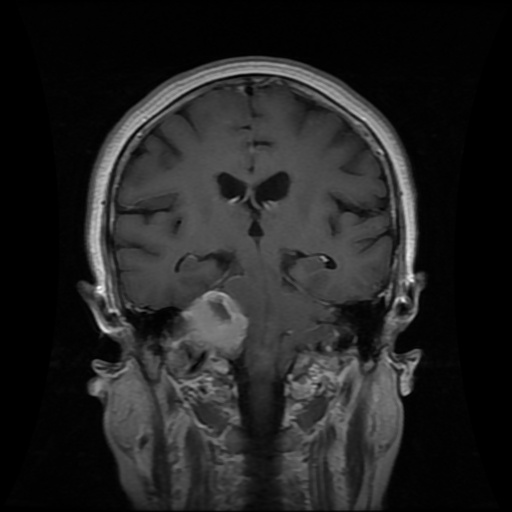meningioma: (162, 292, 247, 358)
